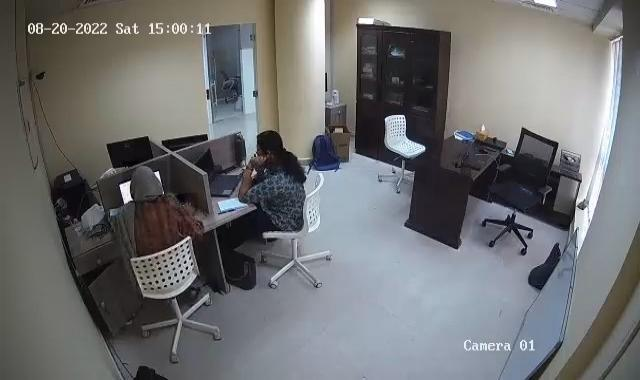no_apron: (243, 158, 271, 178), (178, 193, 198, 216)
no_gloves: (122, 161, 167, 203), (253, 128, 291, 174)
